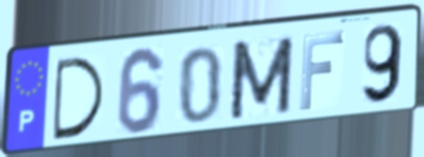0: (176, 44, 226, 125)
6: (114, 43, 166, 137)
9: (359, 22, 404, 107)
D: (51, 54, 108, 143)
F: (297, 28, 347, 113)
M: (227, 33, 297, 123)
